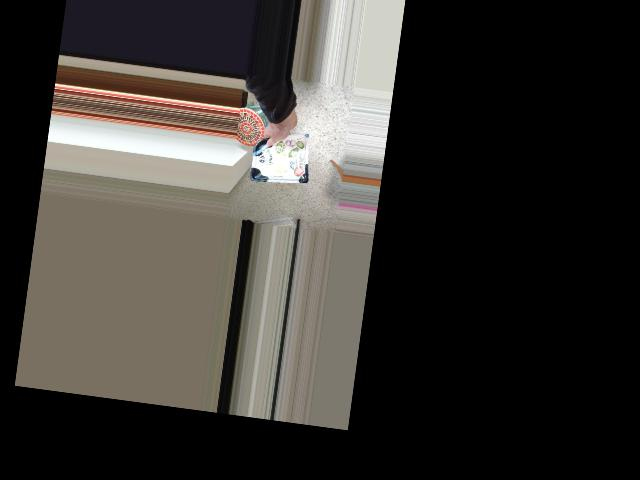cheese: (251, 109, 316, 176)
